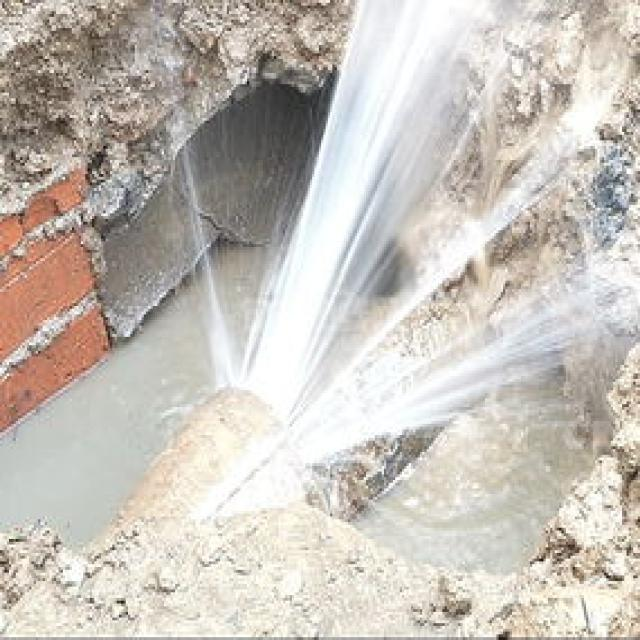leak: (178, 2, 631, 463)
